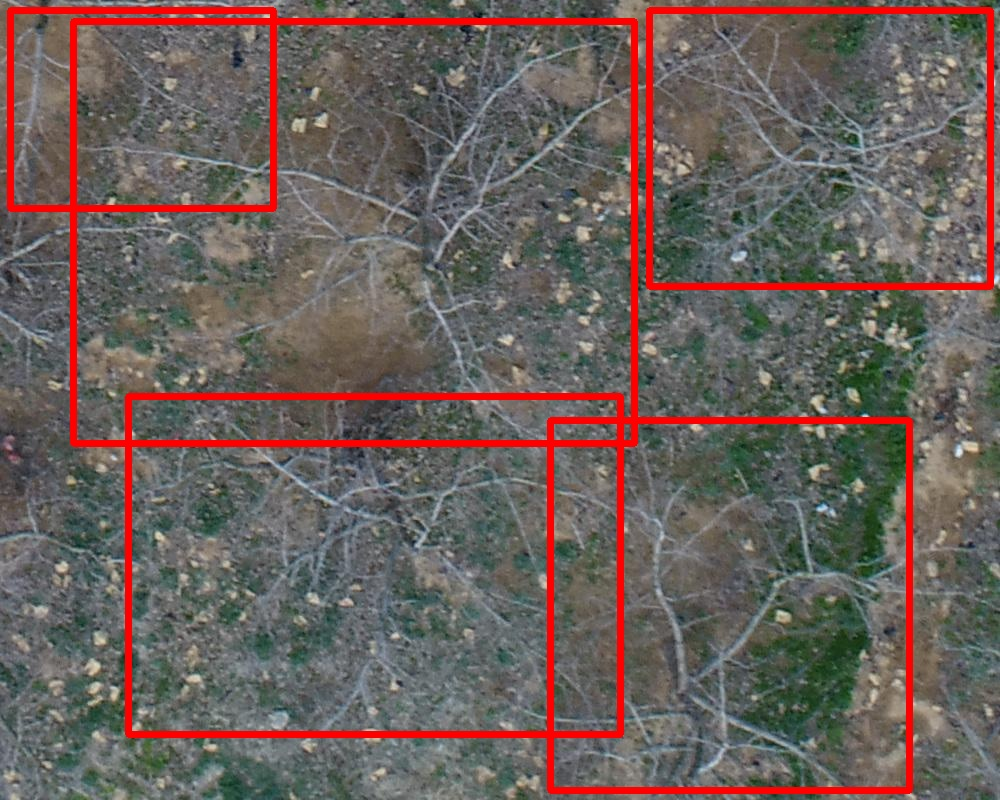apple: (73, 21, 634, 443), (128, 396, 620, 734), (550, 420, 909, 790), (649, 10, 990, 286), (10, 10, 273, 208)
